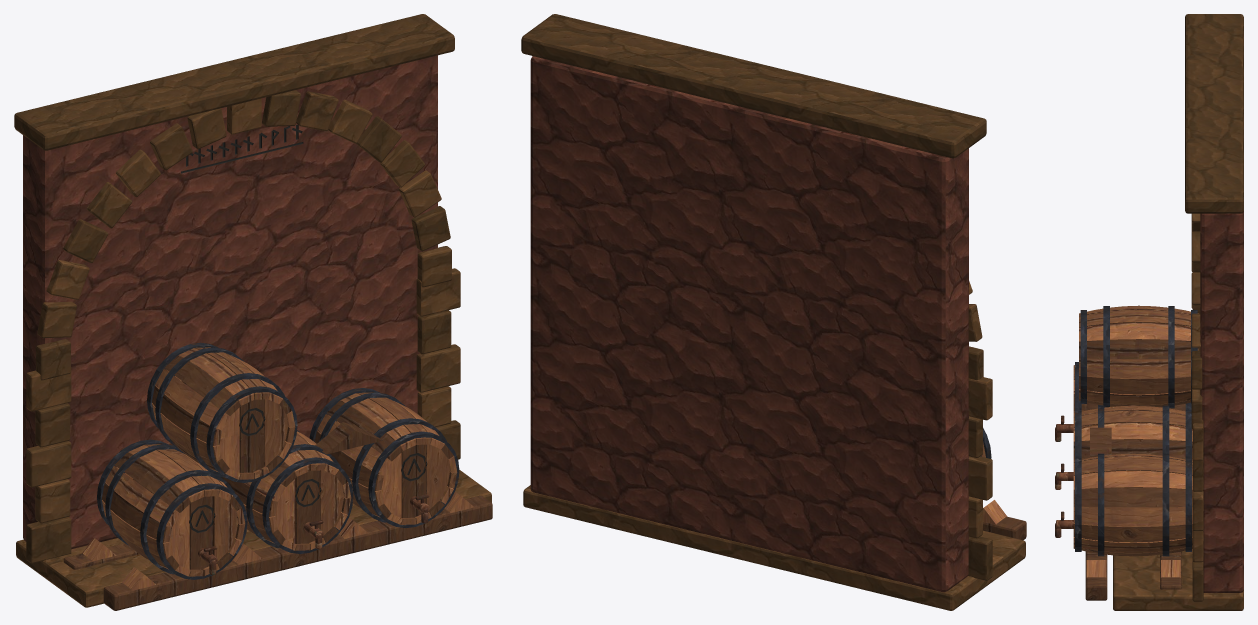
The model's file is rb_cask_bay.glb.
3 renders of one model, left to right at view 1: azimuth 30°, elevation 25°; view 2: azimuth 150°, elevation 25°; view 3: azimuth 270°, elevation 25°, orthographic. The views are drawn at different scales.
Parts seen in each view (by area): view 1: model; view 2: model; view 3: model.
Boxes of the visible parts, bbox=[...] form: model: bbox=[14, 14, 492, 610]; model: bbox=[521, 14, 1026, 610]; model: bbox=[1055, 14, 1243, 610].
Size of the model in its own units: 2.11 by 2.09 by 0.8647.
12 materials, 11 textured.
